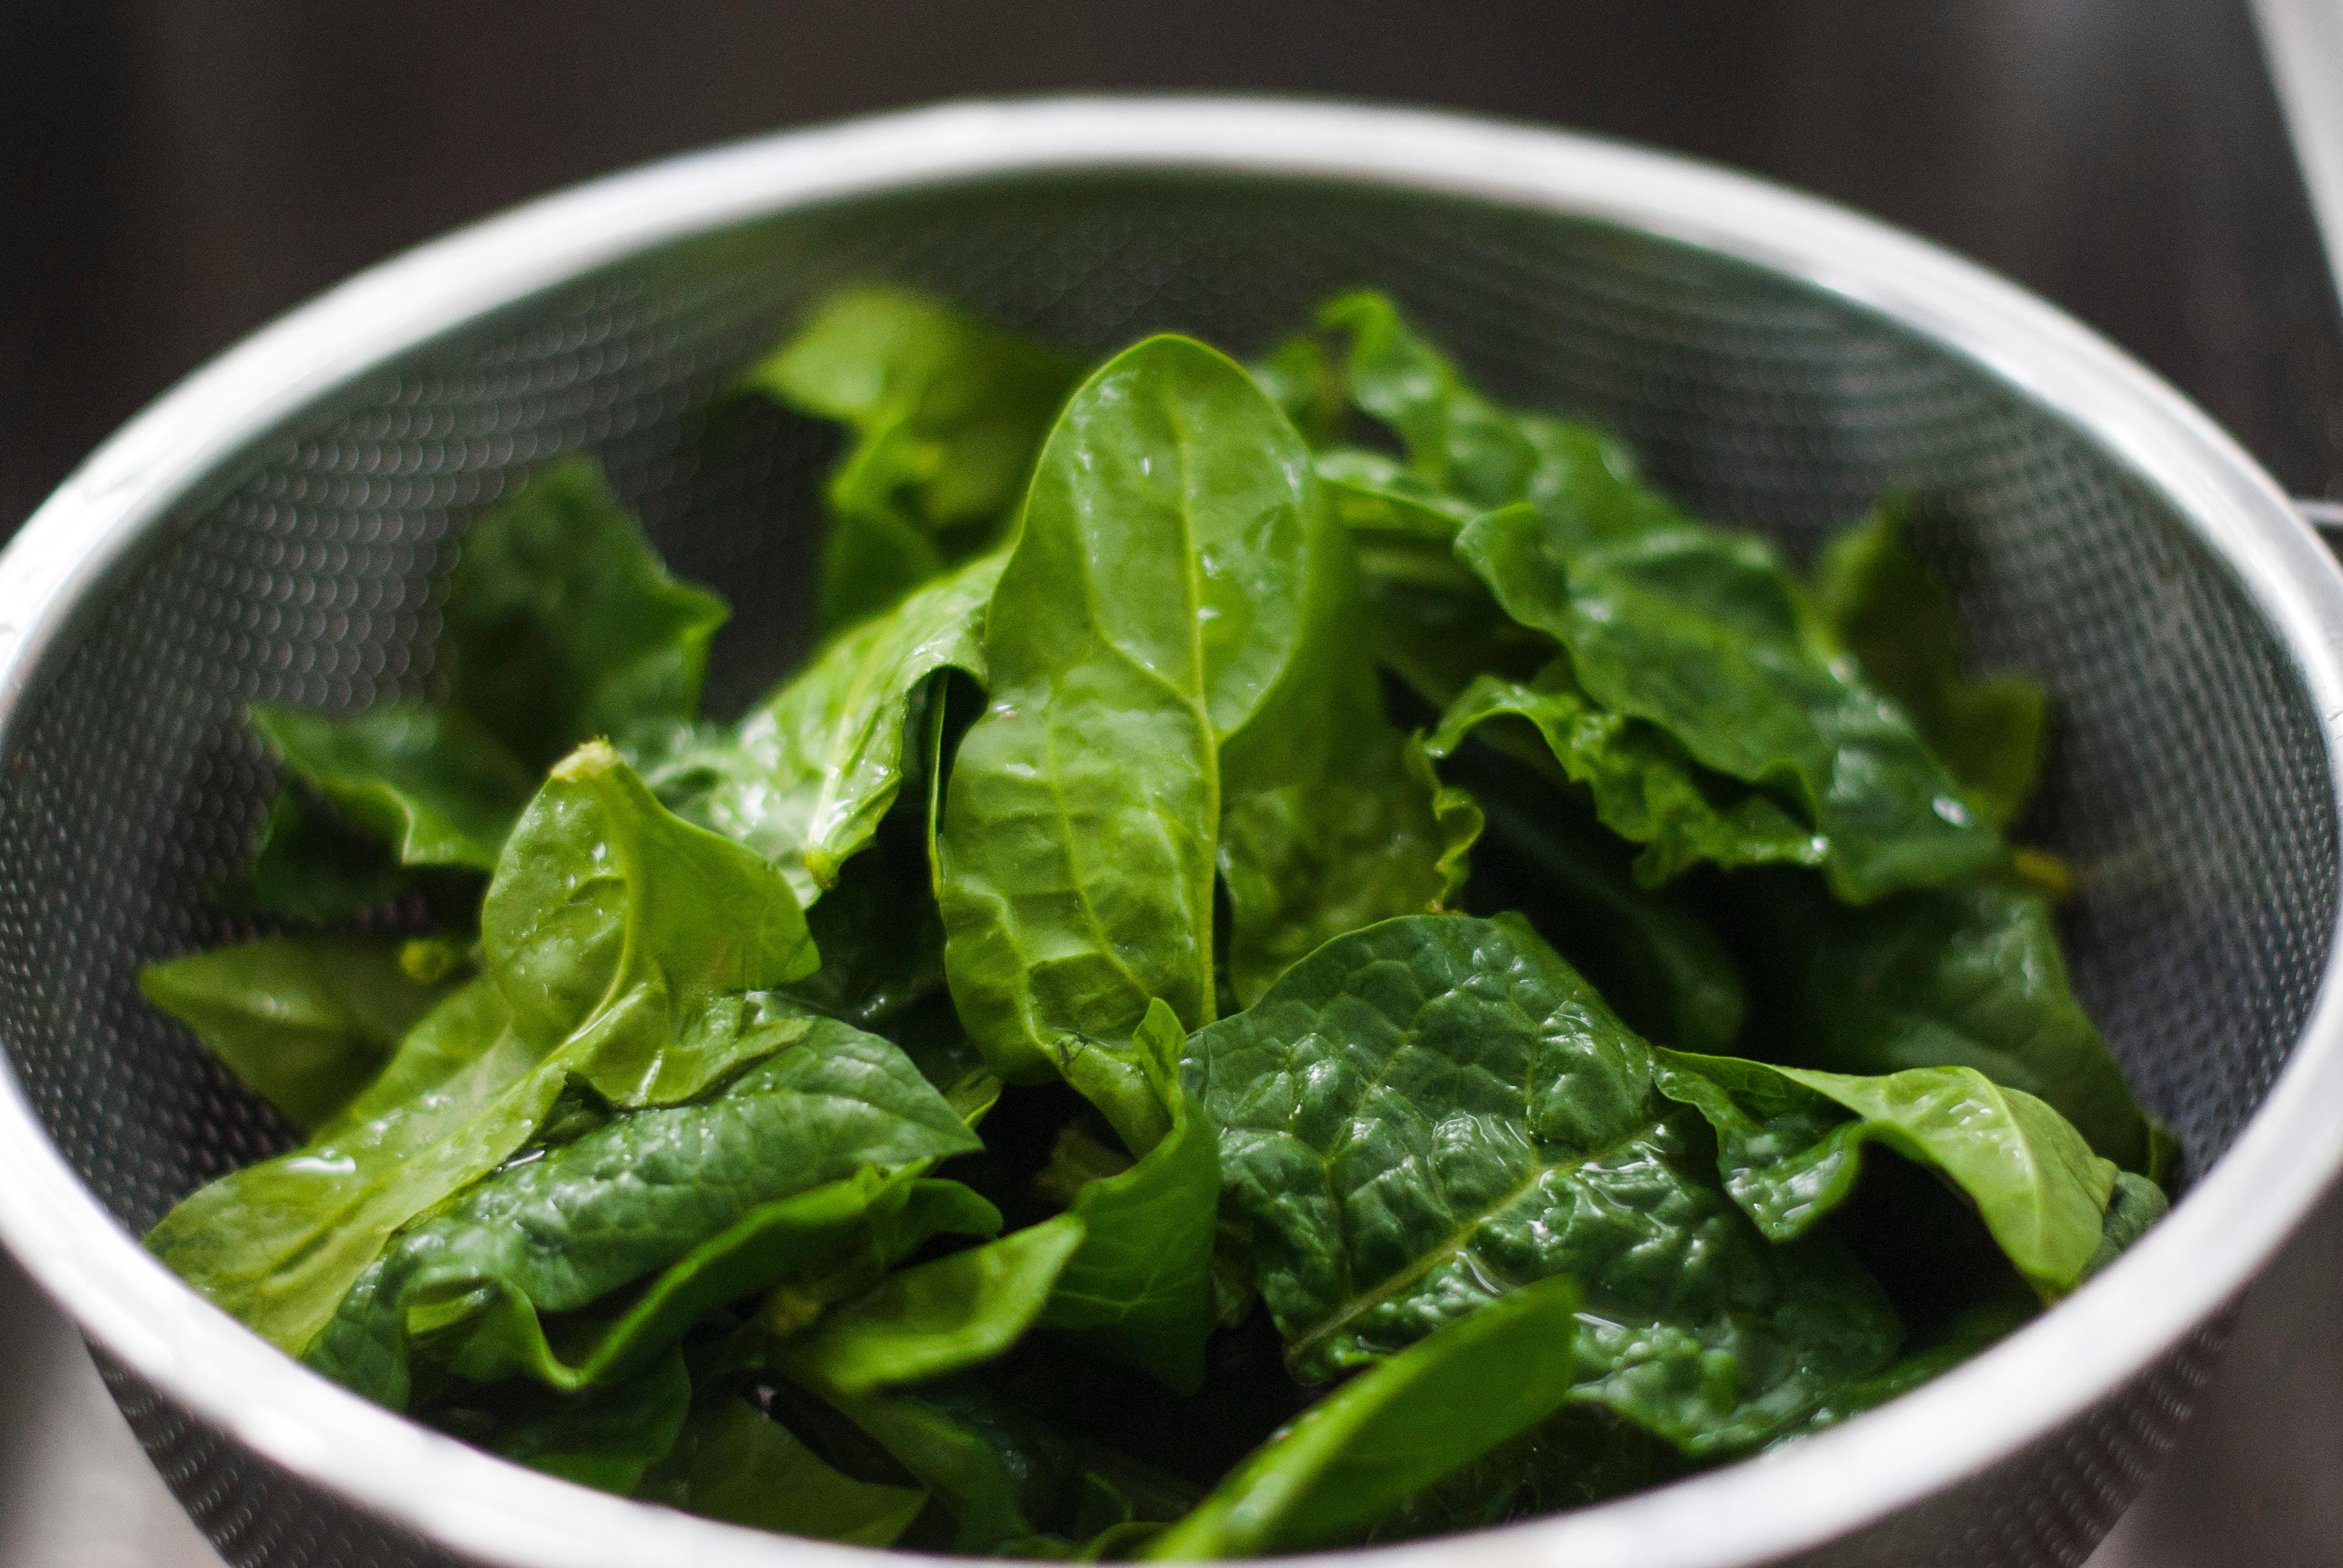spinach: (135, 280, 2182, 1559)
